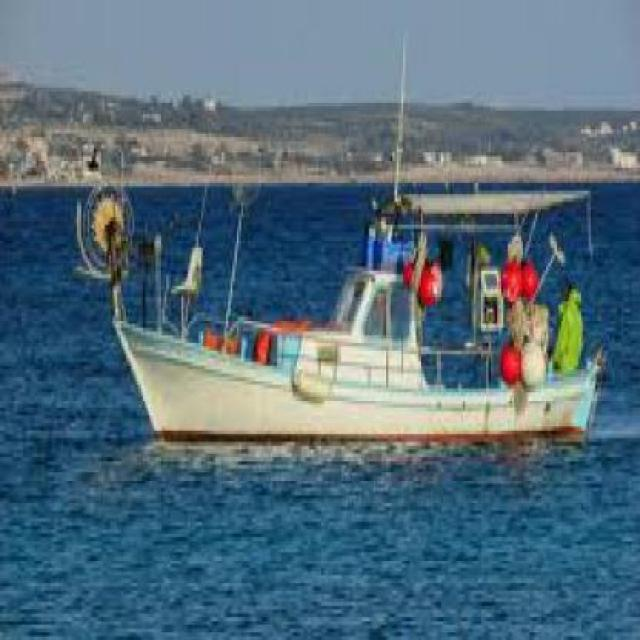fish-b: (91, 89, 626, 473)
